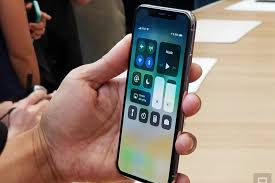iphone: (113, 2, 197, 182)
iphone10: (113, 2, 197, 182)
